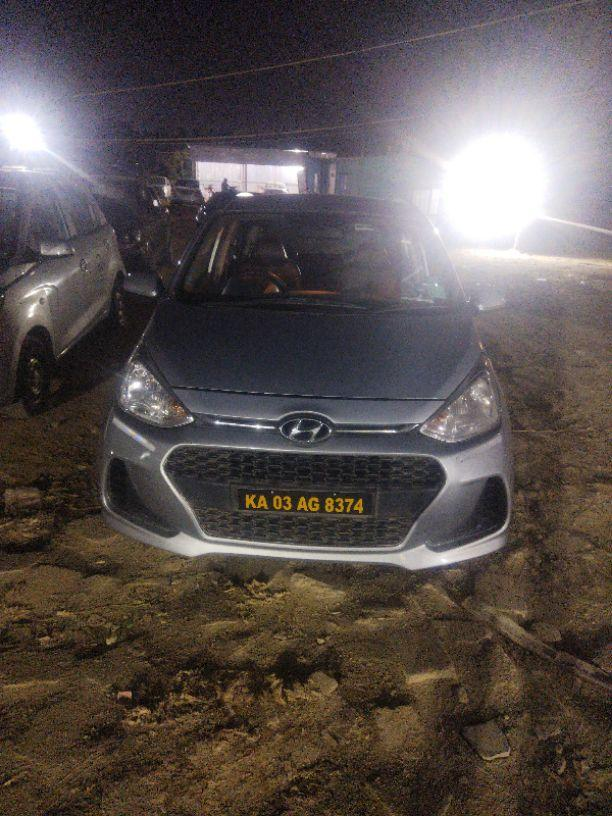license_plate: (229, 482, 376, 518)
